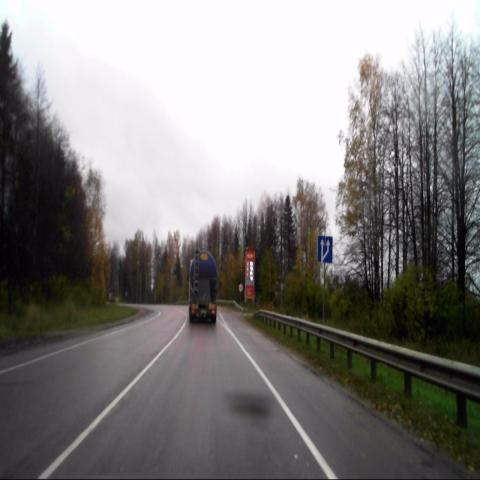5_15_3: (317, 235, 333, 266)
